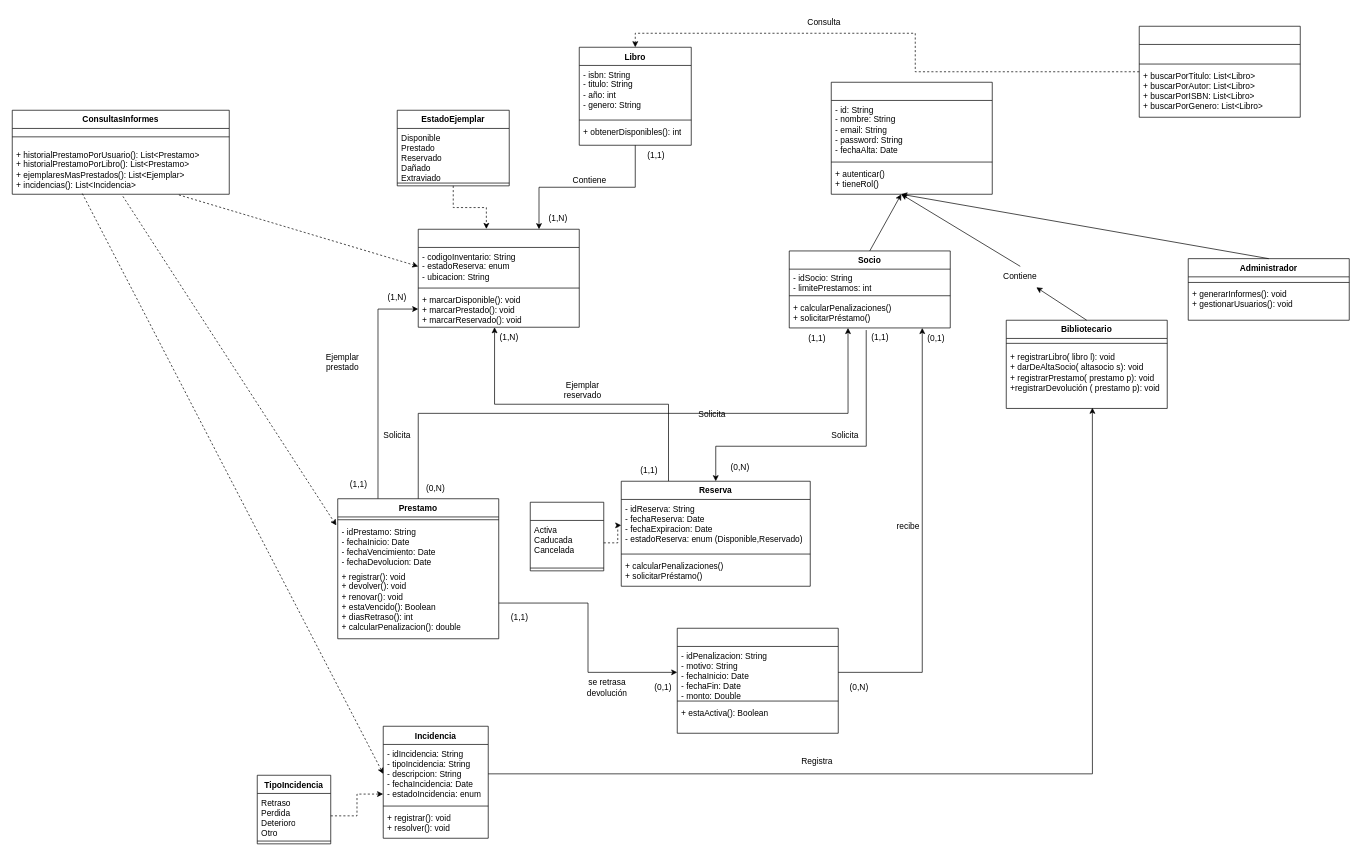
This 1362x856 diagram has some shape labels left out. Each missing label, with the box of its shape:
Catálago: (1139, 26, 1300, 117)
Ejemplar: (418, 229, 579, 327)
EstadoReserva: (530, 502, 604, 571)
Penalización: (677, 628, 838, 733)
Usuario: (831, 82, 992, 194)
